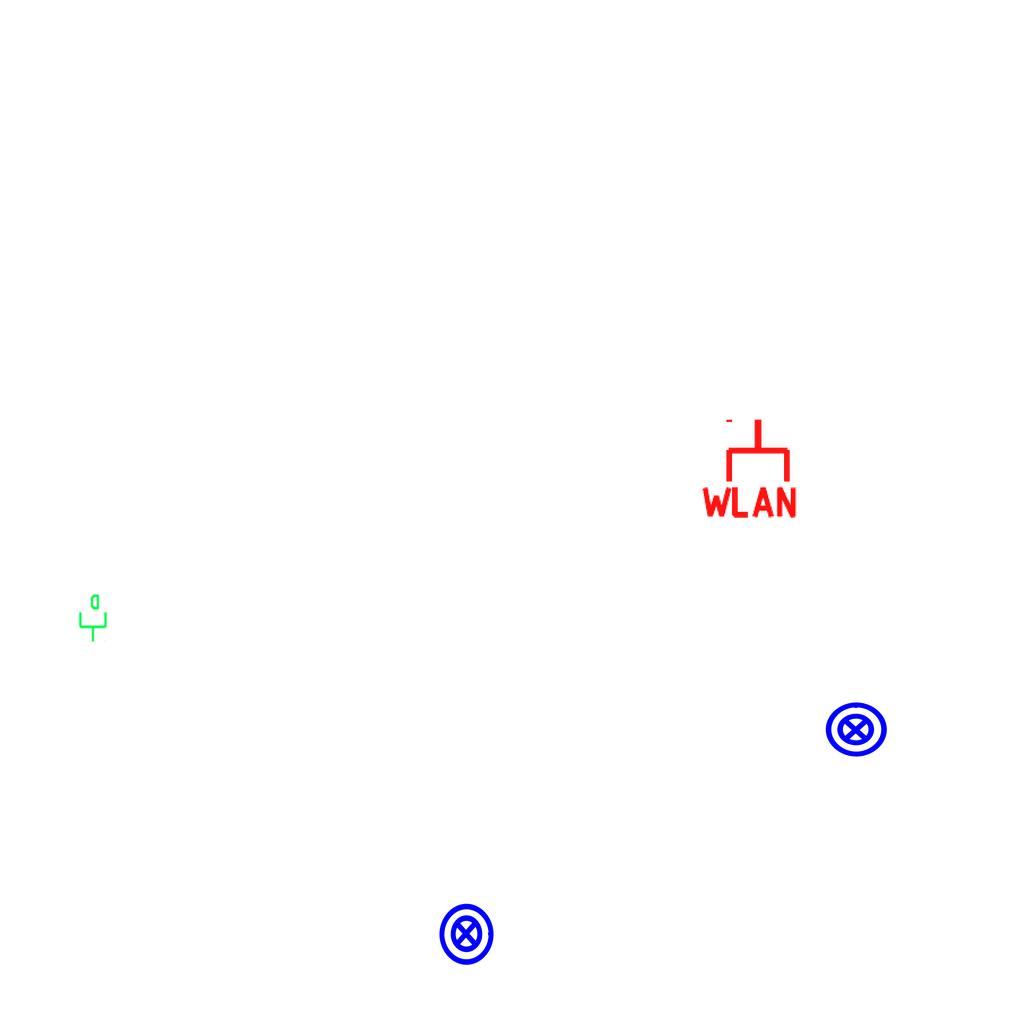Datenanschluss_einfach: (75, 593, 109, 643)
Taster_beleuchtet: (433, 901, 499, 967), (823, 697, 889, 763)
WLAN: (697, 415, 801, 520)
